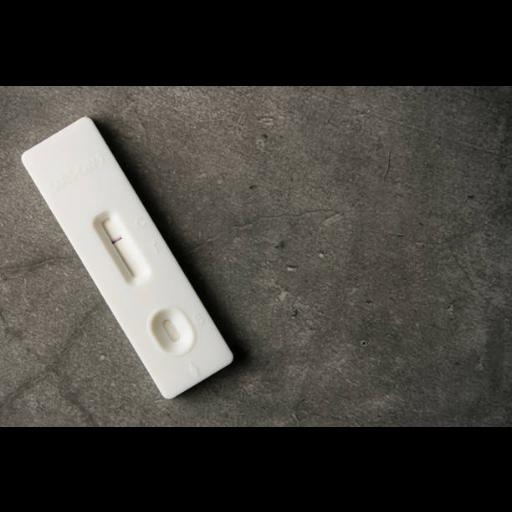Neg: (18, 113, 237, 401)
